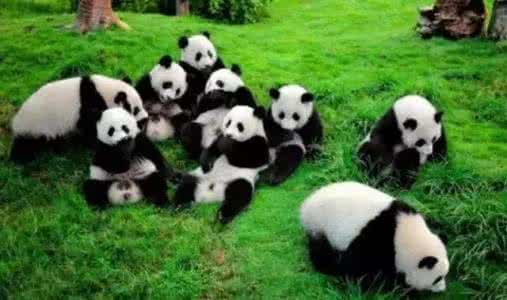panda: (293, 179, 449, 300), (7, 74, 148, 171), (175, 102, 270, 225), (357, 93, 449, 191), (88, 108, 171, 209), (178, 63, 257, 153), (136, 52, 190, 157), (270, 81, 325, 161), (173, 30, 228, 106)
